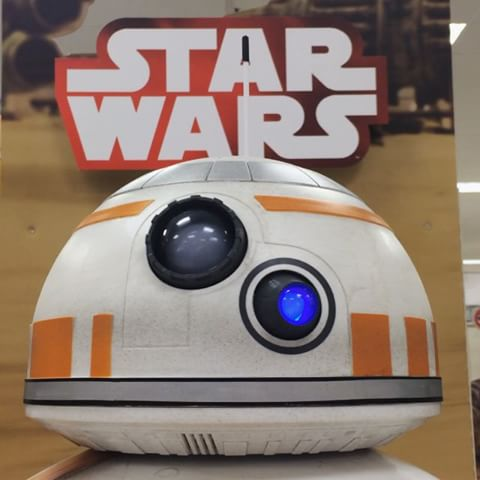bb8: (23, 155, 443, 480)
